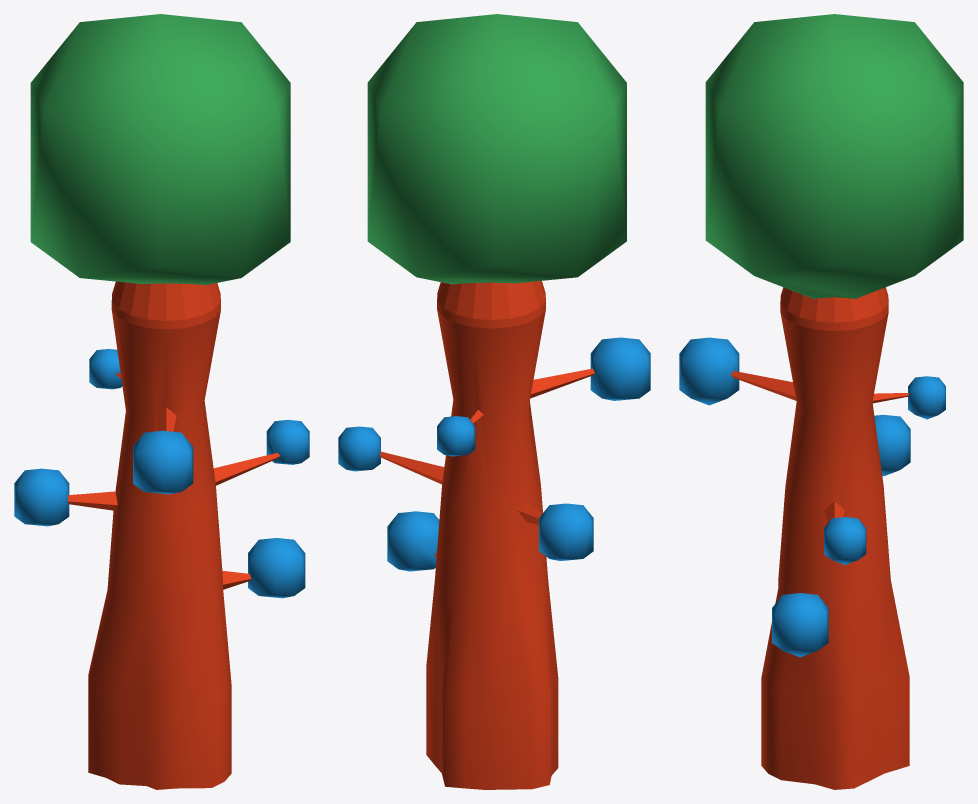
File: Tree 6.fbx
3 renders of one model, left to right at view 1: azimuth 30°, elevation 25°; view 2: azimuth 150°, elevation 25°; view 3: azimuth 270°, elevation 25°, orthographic.
Parts seen in each view (by area): view 1: Tree 6; view 2: Tree 6; view 3: Tree 6.
Part boxes in pixels (x1,y1,x2,y2): Tree 6: [14, 14, 309, 789]; Tree 6: [338, 14, 650, 789]; Tree 6: [679, 14, 963, 789].
Bounding box in the file's own units: 38.31 × 101 × 34.85.
3 materials, 3 textured.
